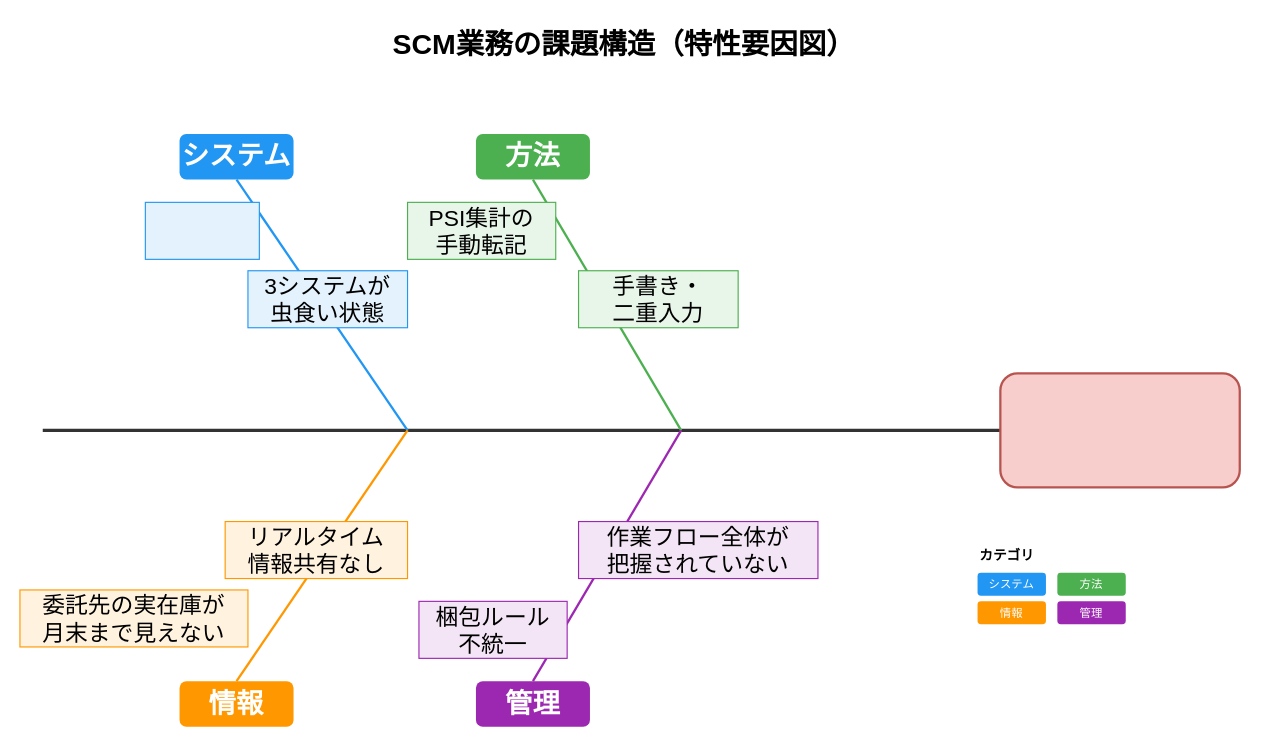
The diagram is 1261 pixels wide and 746 high, and some of its shapes have lost their labels. The centre of each missing label's shape, as x and y in pixels:
GEN/kintone 二重管理: the point at 201,230
SCM業務における 情報の分断と 可視化不足: the point at 1119,430
